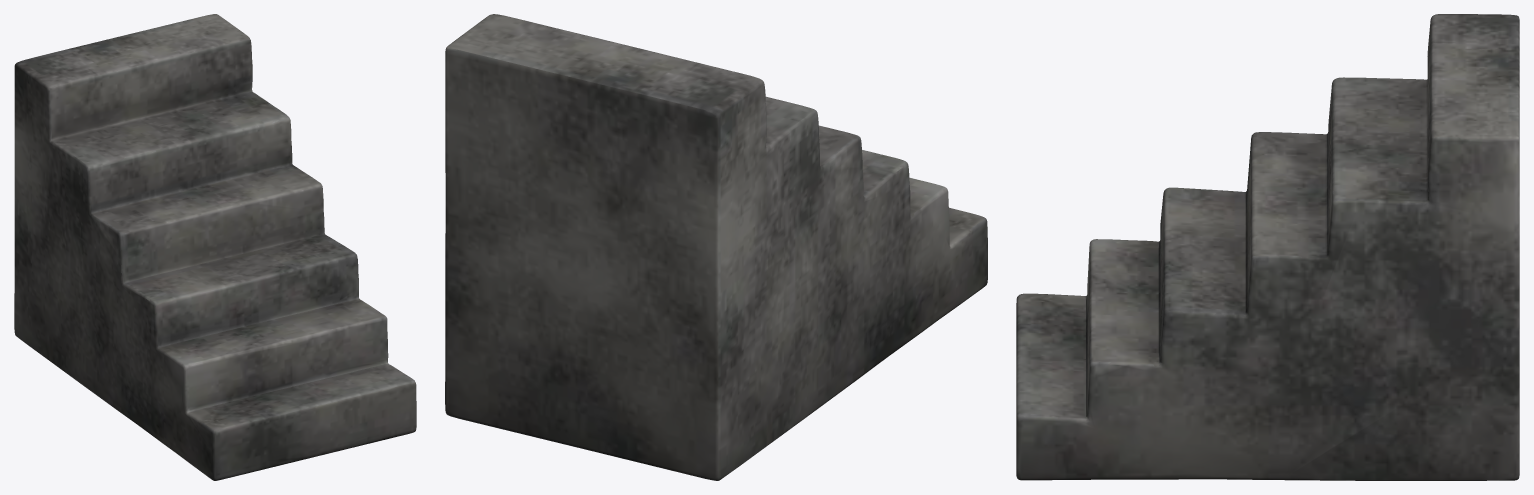
The model's file is plain-granite-straight-staircase-v001.glb.
The picture shows the model from 3 angles, left to right: view 1: azimuth 30°, elevation 25°; view 2: azimuth 150°, elevation 25°; view 3: azimuth 270°, elevation 25°; orthographic projection. The views are drawn at different scales.
Visible parts, largest first — view 1: plain-granite-straight-staircase; view 2: plain-granite-straight-staircase; view 3: plain-granite-straight-staircase.
Boxes of the visible parts, x1=… form: plain-granite-straight-staircase: x1=14, y1=14, x2=416, y2=480; plain-granite-straight-staircase: x1=445, y1=14, x2=987, y2=480; plain-granite-straight-staircase: x1=1016, y1=14, x2=1519, y2=480.
Size of the model in its own units: 1.09 by 1.4 by 1.85.
Materials: 1 (1 with a texture image).
